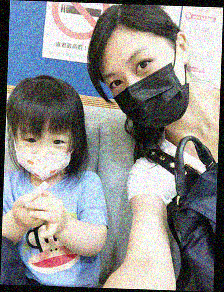with_mask: (101, 44, 191, 128), (13, 125, 74, 182)
